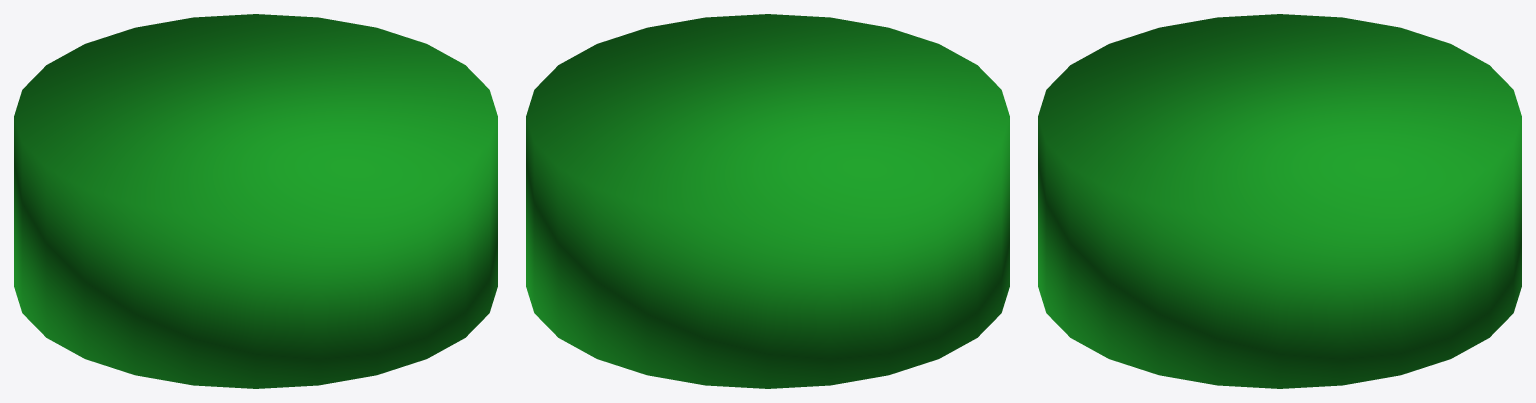
The model's file is TutPad_BtnA.obj.
3 renders of one model, left to right at view 1: azimuth 30°, elevation 25°; view 2: azimuth 150°, elevation 25°; view 3: azimuth 270°, elevation 25°, orthographic.
Visible parts, largest first — view 1: TutPad_BtnA; view 2: TutPad_BtnA; view 3: TutPad_BtnA.
Part boxes in pixels (x1,y1,x2,y2): TutPad_BtnA: [14, 14, 497, 388]; TutPad_BtnA: [526, 14, 1009, 388]; TutPad_BtnA: [1038, 14, 1521, 388].
Bounding box in the file's own units: 0.09 × 0.035 × 0.09.
1 material, 1 textured.
